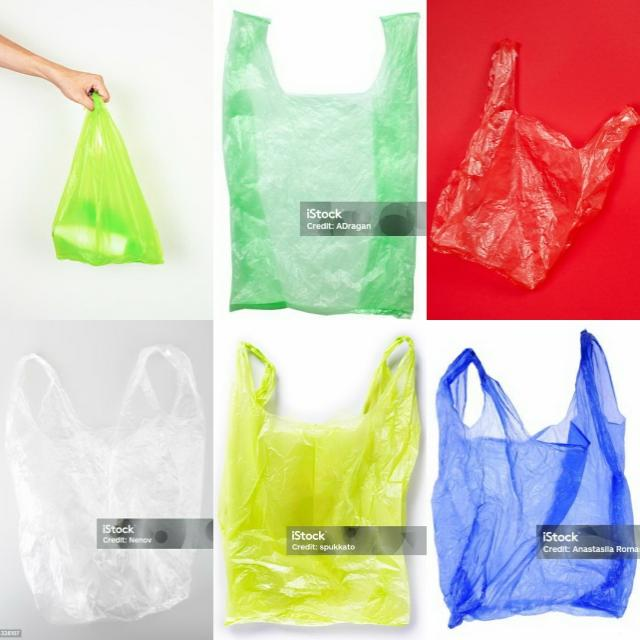Single-layer Plastic: (431, 330, 640, 628), (222, 11, 419, 317), (218, 337, 420, 625), (5, 345, 205, 624), (430, 40, 640, 289), (52, 93, 164, 265)
